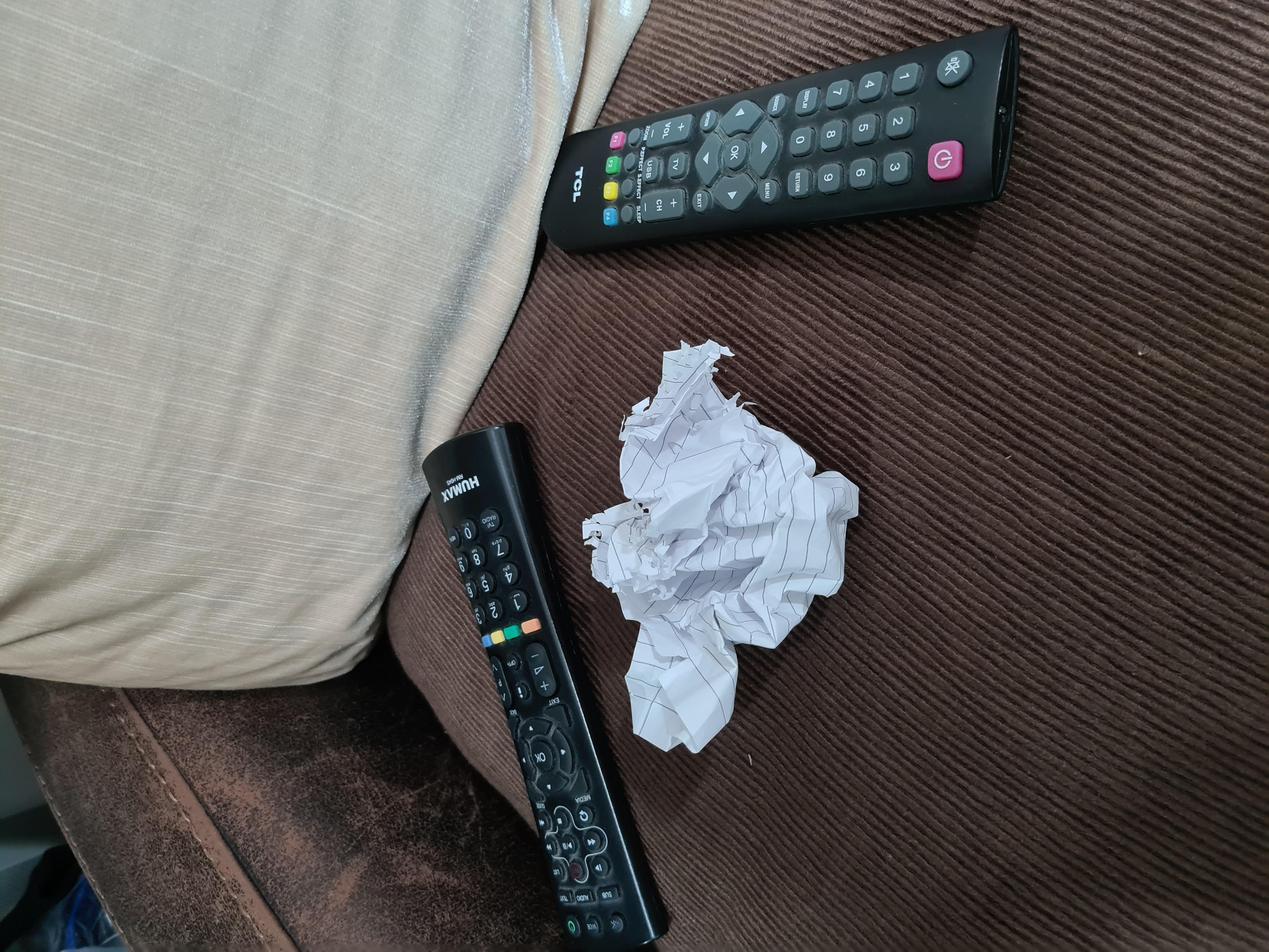paper: (265, 440, 841, 650)
